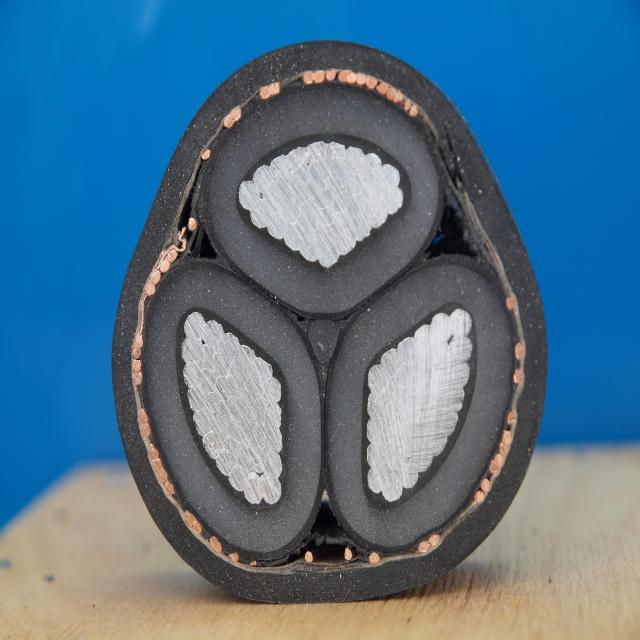wire: (306, 238, 348, 275), (332, 215, 358, 255), (362, 440, 394, 472), (296, 182, 335, 206), (424, 383, 456, 411), (182, 304, 206, 340), (289, 198, 315, 231), (414, 376, 444, 404), (454, 331, 480, 362), (266, 204, 289, 238), (280, 228, 304, 260), (400, 459, 427, 487), (264, 402, 288, 433), (307, 217, 323, 263), (376, 184, 405, 208), (381, 348, 411, 371), (248, 174, 287, 191), (264, 375, 286, 405), (251, 195, 272, 226), (232, 345, 257, 371), (370, 164, 400, 185), (264, 447, 282, 482), (346, 170, 371, 195), (181, 333, 204, 360), (332, 190, 354, 218), (370, 198, 400, 218), (246, 370, 266, 400), (305, 137, 328, 163), (220, 404, 243, 430), (396, 334, 419, 360), (365, 378, 391, 401), (323, 136, 342, 167), (352, 155, 380, 176), (384, 398, 404, 427), (445, 380, 462, 414), (282, 168, 306, 192), (339, 147, 364, 170), (193, 407, 212, 437), (309, 165, 336, 186), (248, 426, 276, 446), (262, 477, 284, 502), (212, 353, 233, 379), (451, 354, 468, 386), (206, 390, 226, 417), (203, 314, 225, 338), (391, 423, 408, 454), (263, 428, 281, 457), (230, 463, 248, 492), (432, 338, 448, 370), (431, 426, 447, 458), (399, 394, 422, 416), (332, 66, 356, 87), (354, 214, 375, 238), (423, 418, 441, 446), (367, 396, 392, 416), (451, 306, 470, 332), (434, 309, 452, 336), (186, 384, 206, 408), (406, 358, 422, 388), (408, 414, 422, 448), (219, 447, 237, 473), (419, 347, 434, 378), (186, 362, 202, 391), (219, 335, 242, 355), (251, 356, 271, 379), (236, 181, 263, 198), (200, 367, 217, 394), (359, 80, 379, 102), (367, 474, 390, 493), (203, 336, 222, 358), (266, 74, 282, 100), (204, 432, 221, 456), (240, 446, 253, 477), (366, 421, 386, 441), (434, 364, 452, 386), (218, 372, 232, 400), (364, 368, 392, 382), (502, 292, 519, 315), (248, 476, 264, 500), (397, 366, 410, 395), (228, 371, 243, 396), (297, 155, 316, 174), (224, 104, 248, 119), (481, 476, 499, 496), (230, 422, 250, 440), (383, 473, 398, 497), (322, 207, 339, 228), (283, 150, 305, 166), (426, 403, 444, 422), (389, 90, 410, 106), (359, 191, 373, 215), (415, 442, 427, 469), (421, 325, 436, 346), (247, 397, 259, 423), (220, 112, 237, 130), (446, 408, 456, 438), (301, 63, 312, 90), (256, 403, 270, 424), (232, 392, 247, 411), (334, 161, 344, 189), (195, 348, 207, 371), (250, 451, 262, 474), (189, 503, 198, 532), (135, 360, 143, 391), (505, 406, 517, 426), (198, 149, 215, 163), (258, 78, 268, 101), (368, 74, 385, 87), (147, 270, 165, 282), (212, 534, 222, 555), (247, 563, 268, 573), (349, 63, 362, 79), (141, 422, 153, 439), (301, 552, 318, 564), (404, 105, 422, 116), (513, 367, 526, 382), (153, 457, 165, 473), (341, 548, 353, 564), (516, 337, 524, 361), (501, 441, 510, 462), (399, 99, 413, 112), (146, 445, 159, 459), (375, 82, 392, 92), (143, 282, 155, 296), (428, 531, 442, 543), (158, 469, 168, 485), (160, 260, 173, 272), (163, 486, 175, 499), (370, 555, 384, 566), (488, 459, 495, 481), (133, 333, 148, 343), (190, 218, 201, 230), (472, 493, 484, 504), (388, 86, 401, 96), (264, 168, 289, 173), (482, 480, 493, 491), (126, 350, 146, 356), (328, 65, 335, 82), (138, 411, 152, 418), (167, 250, 179, 258), (195, 516, 199, 540), (320, 66, 324, 88), (497, 448, 499, 476), (230, 545, 233, 563), (420, 543, 424, 554), (366, 68, 371, 76), (503, 442, 512, 446), (143, 363, 144, 379)
